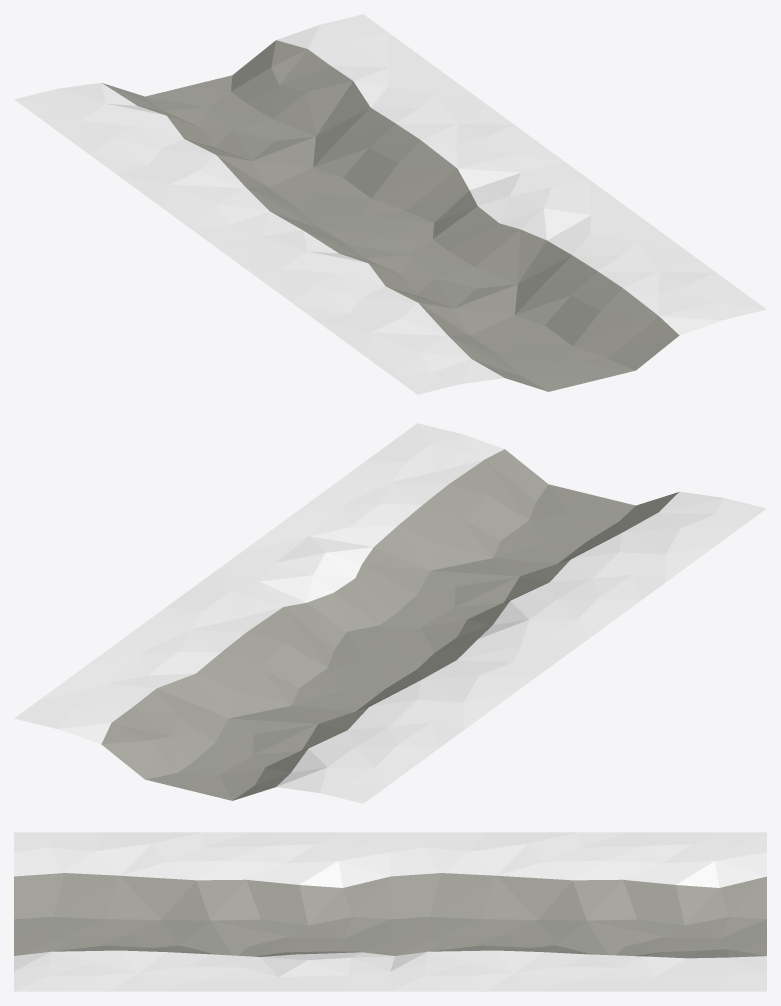
File: CPT_River_S_a_04.fbx
The picture shows the model from 3 angles, top to bottom: view 1: azimuth 30°, elevation 25°; view 2: azimuth 150°, elevation 25°; view 3: azimuth 270°, elevation 25°; orthographic projection. The views are drawn at different scales.
Parts seen in each view (by area): view 1: CPT_River_S_a_04; view 2: CPT_River_S_a_04; view 3: CPT_River_S_a_04.
Part boxes in pixels (x1,y1,x2,y2): CPT_River_S_a_04: [14, 14, 766, 394]; CPT_River_S_a_04: [14, 423, 766, 803]; CPT_River_S_a_04: [14, 832, 766, 991].
Bounding box in the file's own units: 25 × 2.26 × 50.
